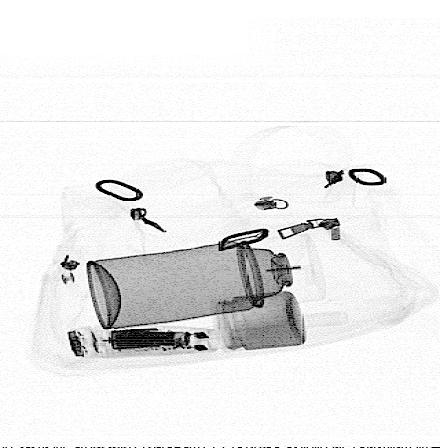Sprayer: (86, 234, 324, 331)
